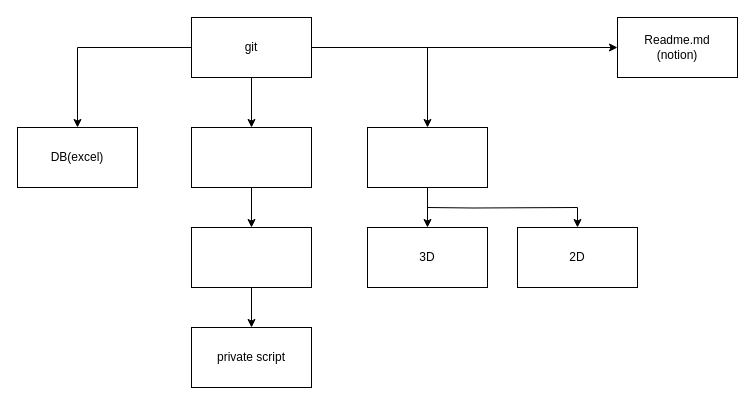
Image size: 755x405. Some labels were removed from this diagram. Here are the shapes that lost their labels. From the top down, the centre of each, then its label:
[251,157]: unity file
[427,157]: art (key visual)
[251,257]: script (static)
